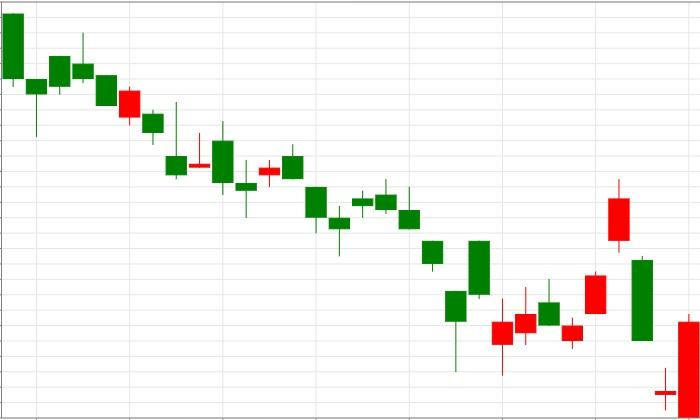inverse_hammer_rise: (72, 32, 188, 179)
three_black_crows_fall: (328, 179, 443, 273)
